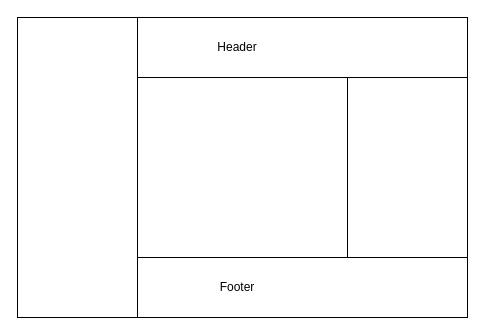
Image size: 485x335. Some labels were removed from this diagram. Each missing label, with the centre of its shape:
"Left Side Drawer / Menu" goes at point 77,167.
"Right Side Drawer / Any Random View" goes at point 407,167.
